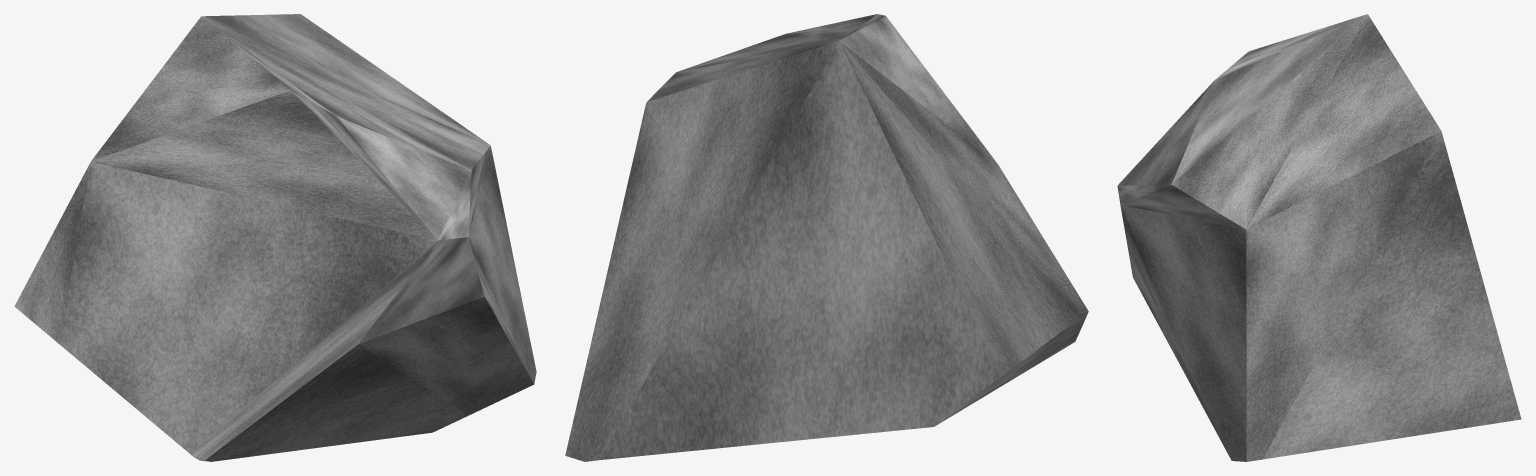
Rendered from body_cell_029.fbx.
3 views of the same model, side by side, from view 1: azimuth 30°, elevation 25°; view 2: azimuth 150°, elevation 25°; view 3: azimuth 270°, elevation 25° (orthographic). The views are drawn at different scales.
Parts seen in each view (by area): view 1: body_cell.029; view 2: body_cell.029; view 3: body_cell.029.
Part boxes in pixels (x1,y1,x2,y2): body_cell.029: (14,14,536,461); body_cell.029: (565,14,1088,461); body_cell.029: (1117,14,1521,461).
Bounding box in the file's own units: 50.6 × 40.41 × 41.44.
